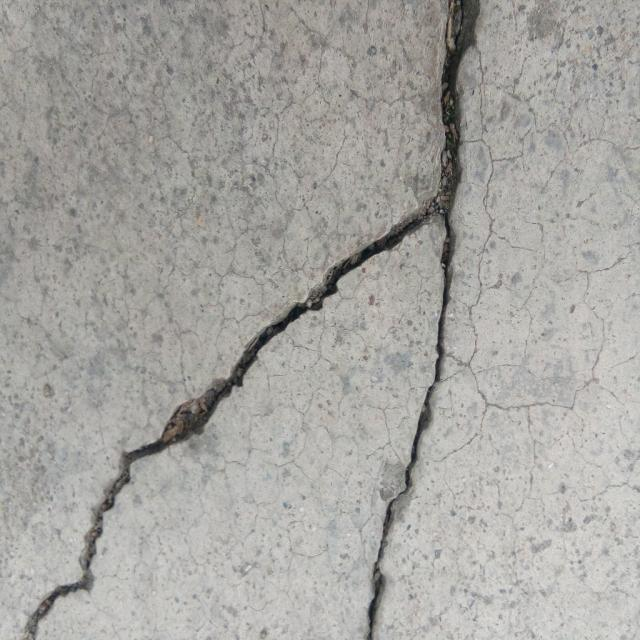cracks: (383, 241, 463, 612), (9, 459, 143, 640), (230, 255, 368, 384), (416, 1, 498, 216), (121, 411, 245, 454)
